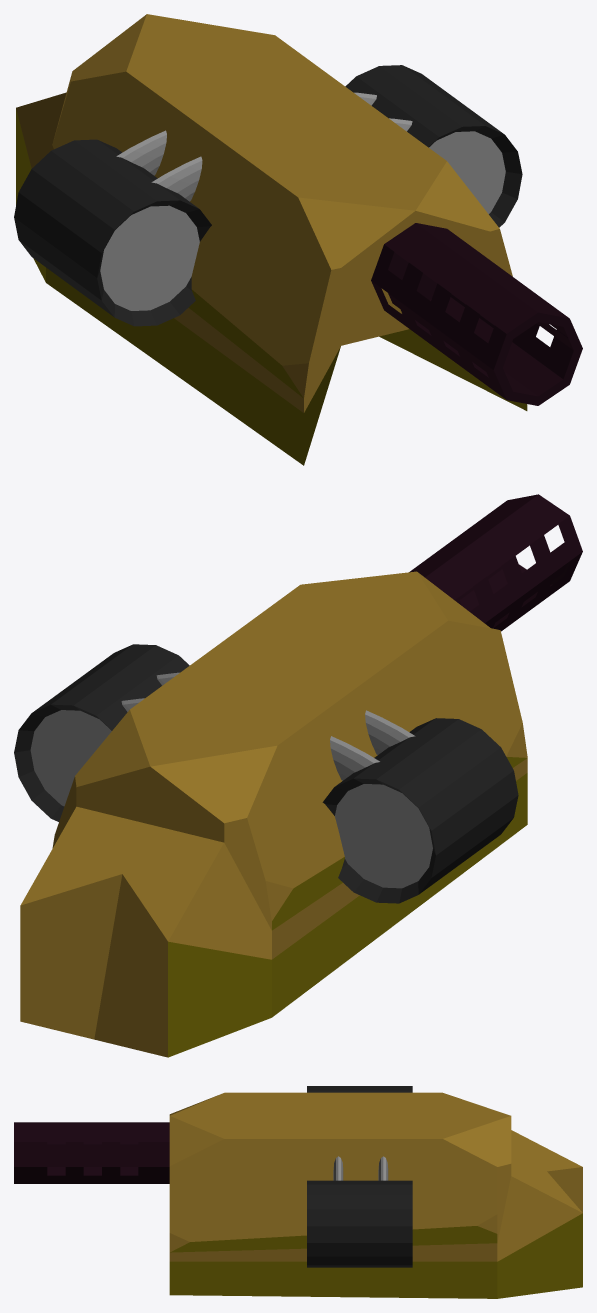
The model's file is MachineGun.fbx.
The picture shows the model from 3 angles, top to bottom: view 1: azimuth 30°, elevation 25°; view 2: azimuth 150°, elevation 25°; view 3: azimuth 270°, elevation 25°; orthographic projection. The views are drawn at different scales.
Parts seen in each view (by area): view 1: Gun, Drum, Barrel, Drum1, DrumRail, DrumRail1; view 2: Gun, Drum, Barrel, Drum1, DrumRail, DrumRail1; view 3: Gun, Barrel, Drum1, Drum.
Boxes of the visible parts, left/top/right/bottom form: Gun: left=16, top=14, right=527, bottom=465; Drum: left=14, top=139, right=211, bottom=326; Barrel: left=371, top=223, right=582, bottom=405; Drum1: left=345, top=65, right=522, bottom=227; DrumRail: left=151, top=118, right=412, bottom=201; DrumRail1: left=116, top=92, right=376, bottom=175; Gun: left=20, top=571, right=527, bottom=1057; Drum: left=322, top=718, right=518, bottom=903; Barrel: left=409, top=494, right=582, bottom=631; Drum1: left=14, top=644, right=189, bottom=821; DrumRail: left=156, top=672, right=415, bottom=754; DrumRail1: left=121, top=698, right=379, bottom=780; Gun: left=169, top=1092, right=582, bottom=1298; Barrel: left=14, top=1122, right=169, bottom=1183; Drum1: left=307, top=1180, right=412, bottom=1267; Drum: left=307, top=1086, right=412, bottom=1092.
Size of the model in its own units: 190 by 100 by 347.
